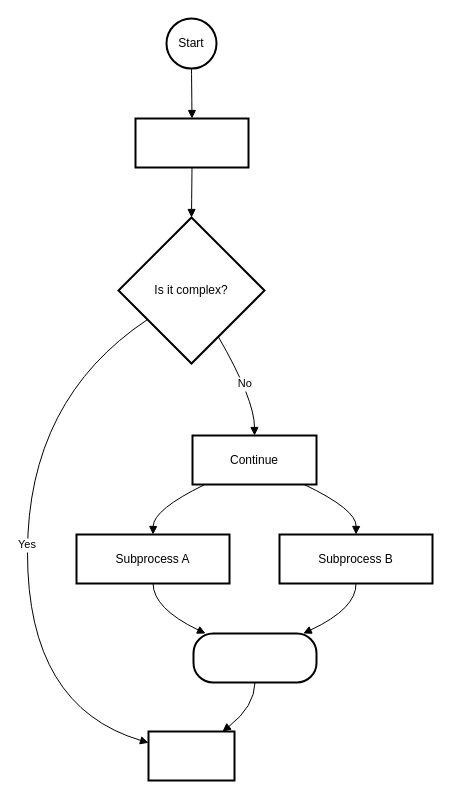
The diagram is 450 pixels wide and 798 high, and some of its shapes have lost their labels. The centre of each missing label's shape, as x and y in pixels:
End: (x=191, y=755)
Process: (x=191, y=142)
Subprocess C: (x=254, y=657)
